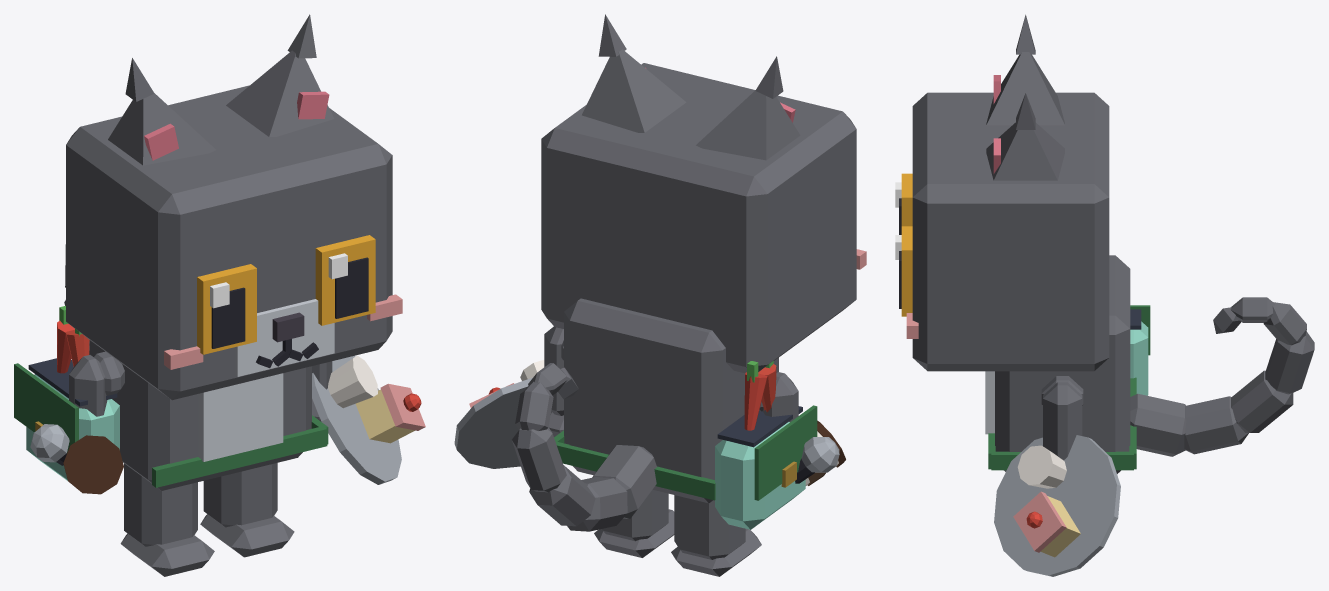
Rendered from CatCafe_Cat_Pepper_Work.glb.
3 views of the same model, side by side, from view 1: azimuth 30°, elevation 25°; view 2: azimuth 150°, elevation 25°; view 3: azimuth 270°, elevation 25° (orthographic). The views are drawn at different scales.
Parts seen in each view (by area): view 1: CatCafe_Cat_Pepper_Work_Head, CatCafe_Cat_Pepper_Work_Body, CatCafe_Cat_Pepper_Work_Held_Waiter, CatCafe_Cat_Pepper_Work_LegB2, CatCafe_Cat_Pepper_Work_EarL, CatCafe_Cat_Pepper_Work_LegB1, CatCafe_Cat_Pepper_Work_EarR, CatCafe_Cat_Pepper_Work_Eye1, CatCafe_Cat_Pepper_Work_Eye2, CatCafe_Cat_Pepper_Work_Held_Barista, CatCafe_Cat_Pepper_Work_LegF2, CatCafe_Cat_Pepper_Work_Held_Entertainer; view 2: CatCafe_Cat_Pepper_Work_Head, CatCafe_Cat_Pepper_Work_Body, CatCafe_Cat_Pepper_Work_Tail, CatCafe_Cat_Pepper_Work_EarL, CatCafe_Cat_Pepper_Work_EarR, CatCafe_Cat_Pepper_Work_LegB2, CatCafe_Cat_Pepper_Work_Held_Waiter, CatCafe_Cat_Pepper_Work_LegB1, CatCafe_Cat_Pepper_Work_Held_Entertainer, CatCafe_Cat_Pepper_Work_LegF1, CatCafe_Cat_Pepper_Work_LegF2; view 3: CatCafe_Cat_Pepper_Work_Head, CatCafe_Cat_Pepper_Work_Body, CatCafe_Cat_Pepper_Work_Held_Waiter, CatCafe_Cat_Pepper_Work_Tail, CatCafe_Cat_Pepper_Work_EarL, CatCafe_Cat_Pepper_Work_EarR, CatCafe_Cat_Pepper_Work_LegF1, CatCafe_Cat_Pepper_Work_Eye1, CatCafe_Cat_Pepper_Work_Eye2.
Part boxes in pixels (left/top/right/bottom): CatCafe_Cat_Pepper_Work_Head: left=66, top=85, right=402, bottom=400; CatCafe_Cat_Pepper_Work_Body: left=14, top=305, right=328, bottom=490; CatCafe_Cat_Pepper_Work_Held_Waiter: left=312, top=355, right=425, bottom=484; CatCafe_Cat_Pepper_Work_LegB2: left=120, top=463, right=214, bottom=576; CatCafe_Cat_Pepper_Work_EarL: left=226, top=14, right=334, bottom=136; CatCafe_Cat_Pepper_Work_LegB1: left=200, top=463, right=294, bottom=557; CatCafe_Cat_Pepper_Work_EarR: left=108, top=58, right=215, bottom=165; CatCafe_Cat_Pepper_Work_Eye1: left=315, top=235, right=375, bottom=325; CatCafe_Cat_Pepper_Work_Eye2: left=197, top=264, right=256, bottom=354; CatCafe_Cat_Pepper_Work_Held_Barista: left=63, top=435, right=123, bottom=494; CatCafe_Cat_Pepper_Work_LegF2: left=69, top=355, right=107, bottom=416; CatCafe_Cat_Pepper_Work_Held_Entertainer: left=30, top=424, right=69, bottom=465; CatCafe_Cat_Pepper_Work_Head: left=541, top=63, right=866, bottom=373; CatCafe_Cat_Pepper_Work_Body: left=554, top=298, right=817, bottom=529; CatCafe_Cat_Pepper_Work_Tail: left=512, top=363, right=656, bottom=531; CatCafe_Cat_Pepper_Work_EarL: left=582, top=14, right=686, bottom=132; CatCafe_Cat_Pepper_Work_EarR: left=696, top=56, right=800, bottom=160; CatCafe_Cat_Pepper_Work_LegB2: left=671, top=495, right=761, bottom=576; CatCafe_Cat_Pepper_Work_Held_Waiter: left=454, top=360, right=544, bottom=468; CatCafe_Cat_Pepper_Work_LegB1: left=594, top=489, right=674, bottom=557; CatCafe_Cat_Pepper_Work_Held_Entertainer: left=795, top=437, right=839, bottom=483; CatCafe_Cat_Pepper_Work_LegF1: left=544, top=326, right=563, bottom=436; CatCafe_Cat_Pepper_Work_LegF2: left=762, top=372, right=798, bottom=421; CatCafe_Cat_Pepper_Work_Head: left=906, top=92, right=1109, bottom=371; CatCafe_Cat_Pepper_Work_Body: left=985, top=255, right=1150, bottom=473; CatCafe_Cat_Pepper_Work_Held_Waiter: left=994, top=435, right=1120, bottom=576; CatCafe_Cat_Pepper_Work_Tail: left=1130, top=297, right=1314, bottom=456; CatCafe_Cat_Pepper_Work_EarL: left=986, top=93, right=1064, bottom=180; CatCafe_Cat_Pepper_Work_EarR: left=986, top=14, right=1064, bottom=125; CatCafe_Cat_Pepper_Work_LegF1: left=1043, top=382, right=1082, bottom=460; CatCafe_Cat_Pepper_Work_Eye1: left=895, top=226, right=912, bottom=316; CatCafe_Cat_Pepper_Work_Eye2: left=895, top=173, right=912, bottom=234.
Size of the model in its own units: 1.53 by 2.03 by 1.62.
1 material, 1 textured.
